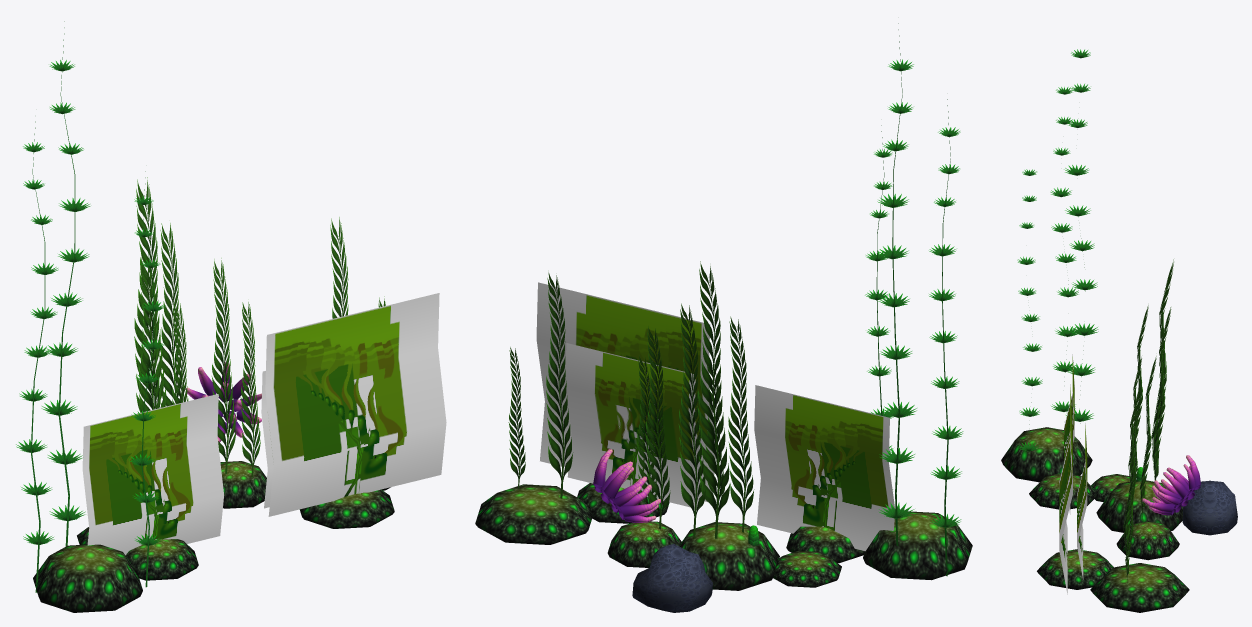
Rendered from CoralSet_15.FBX.
3 views of the same model, side by side, from view 1: azimuth 30°, elevation 25°; view 2: azimuth 150°, elevation 25°; view 3: azimuth 270°, elevation 25° (orthographic). The views are drawn at different scales.
Parts seen in each view (by area): view 1: Plane047, Sphere043, Plane370, Plane041, CoralSet_15; view 2: Plane047, Sphere043, Plane370, Plane041, Plane026, CoralSet_15; view 3: Sphere043, Plane370, Plane041, Plane047, Plane026, CoralSet_15.
Part boxes in pixels (bbox=[...]): Plane047: bbox=[82, 293, 446, 555]; Sphere043: bbox=[33, 461, 394, 612]; Plane370: bbox=[134, 177, 385, 477]; Plane041: bbox=[16, 21, 165, 592]; CoralSet_15: bbox=[185, 362, 261, 442]; Plane047: bbox=[536, 282, 894, 551]; Sphere043: bbox=[475, 483, 972, 590]; Plane370: bbox=[508, 261, 754, 538]; Plane041: bbox=[865, 23, 963, 576]; Plane026: bbox=[632, 543, 712, 612]; CoralSet_15: bbox=[593, 449, 759, 546]; Sphere043: bbox=[1001, 427, 1189, 612]; Plane370: bbox=[1123, 259, 1173, 585]; Plane041: bbox=[1017, 49, 1098, 474]; Plane047: bbox=[1059, 354, 1087, 594]; Plane026: bbox=[1182, 480, 1237, 535]; CoralSet_15: bbox=[1136, 455, 1200, 515].
Bounding box in the file's own units: 13367 × 16303 × 7763.
